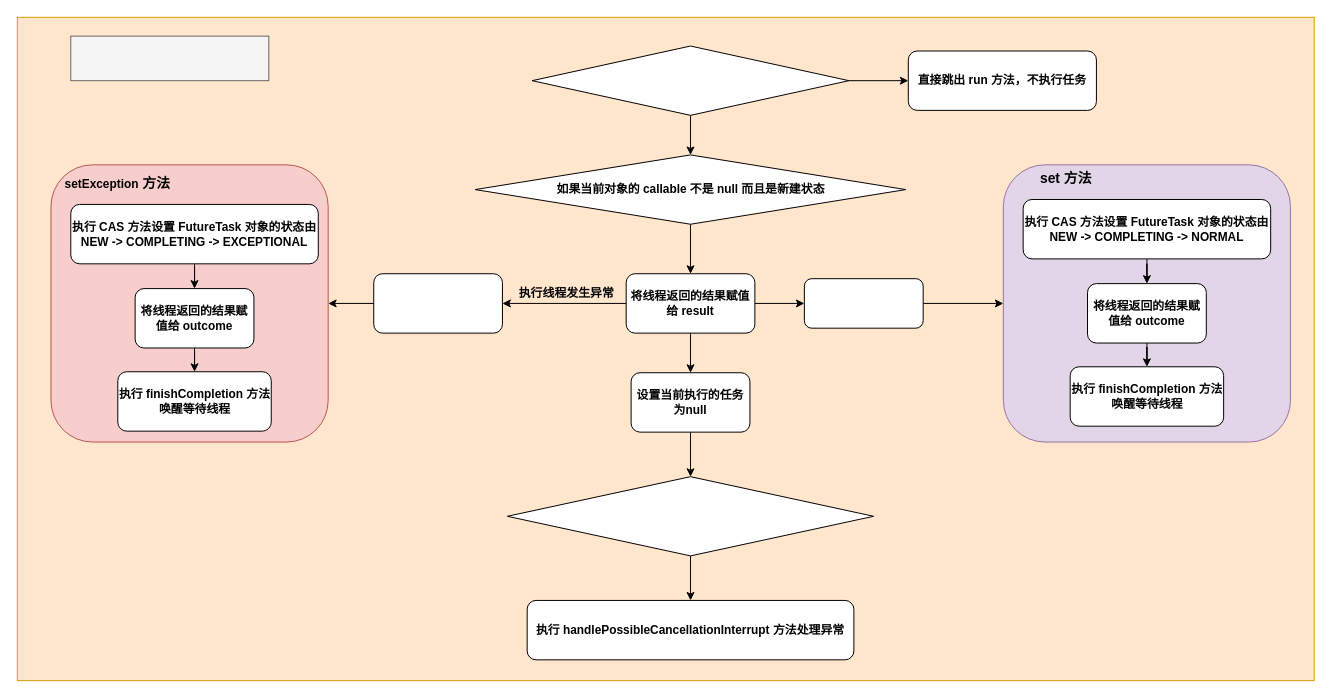
This 1332x698 diagram has some shape labels left out. The shapes that lost their labels are listed below. From the top down, each one's centre as x and y in pixels, then its label:
the point at 169,58: run 方法流程图
the point at 690,80: 当前对象不是新建状态或者执行 CAS 操作失败
the point at 437,303: 执行 setException 方法处理异常
the point at 863,303: 执行 set 方法
the point at 690,516: 如果当前 FutureTask 对象的状态是中断中或者已经被中断
